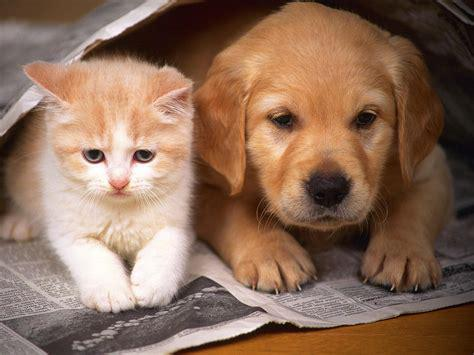cat: (2, 60, 192, 311)
dog: (194, 1, 449, 288)
